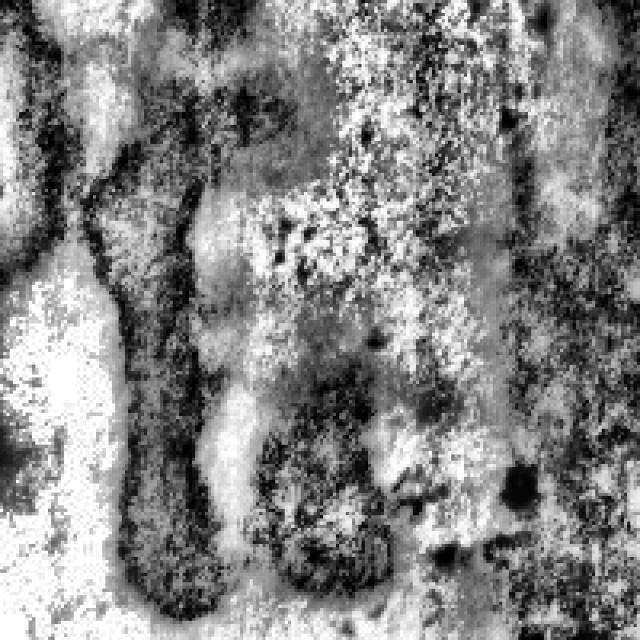Scratches: (83, 0, 275, 624), (477, 0, 637, 637), (246, 326, 404, 598), (0, 0, 83, 288)
